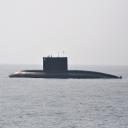submarine: (10, 55, 128, 79)
